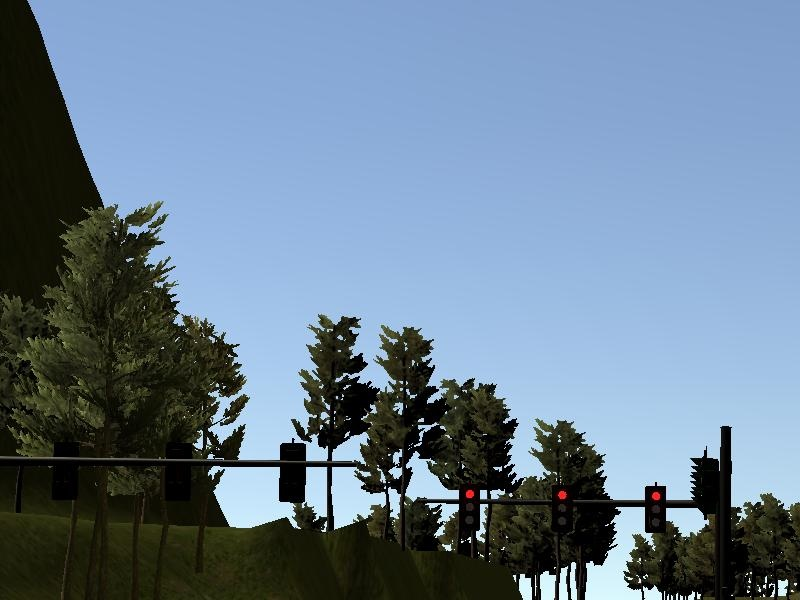traffic_light_red: (424, 485, 702, 534)
